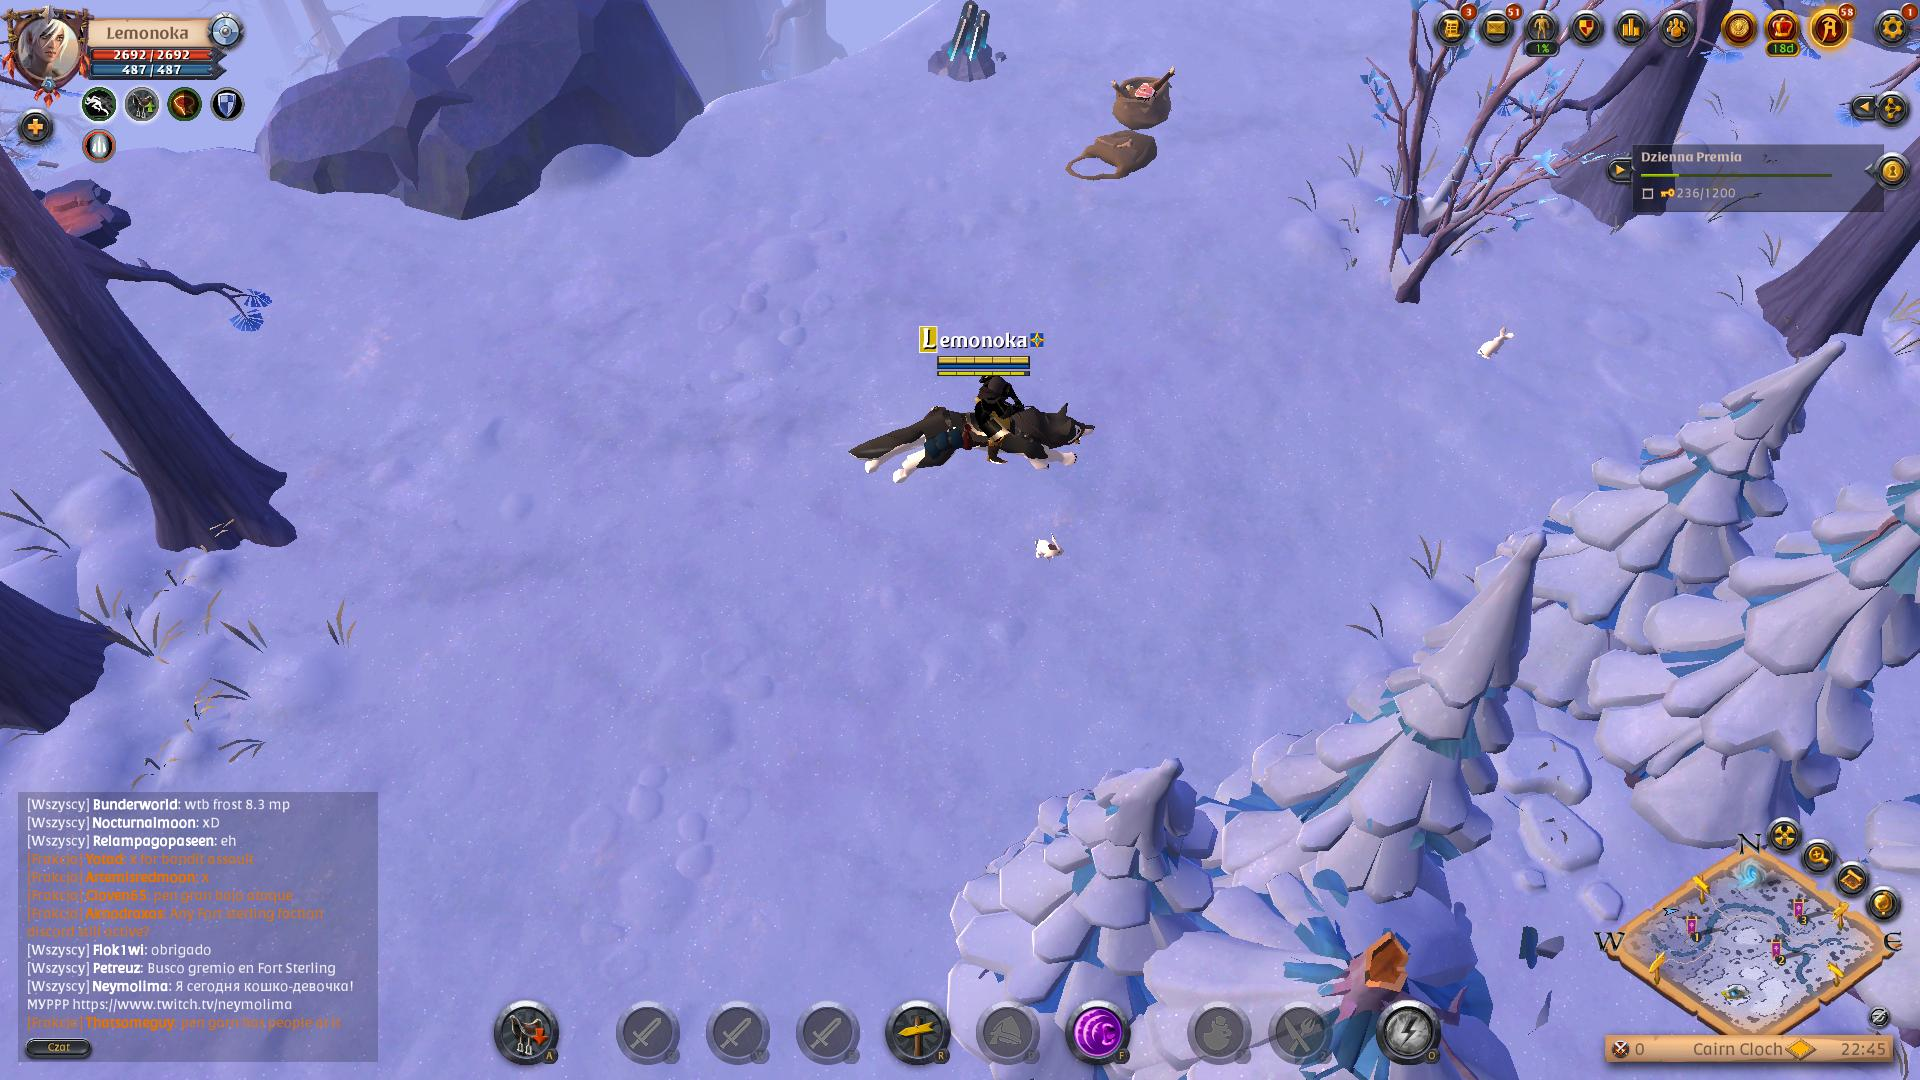ore tier 4: (928, 3, 1005, 86)
